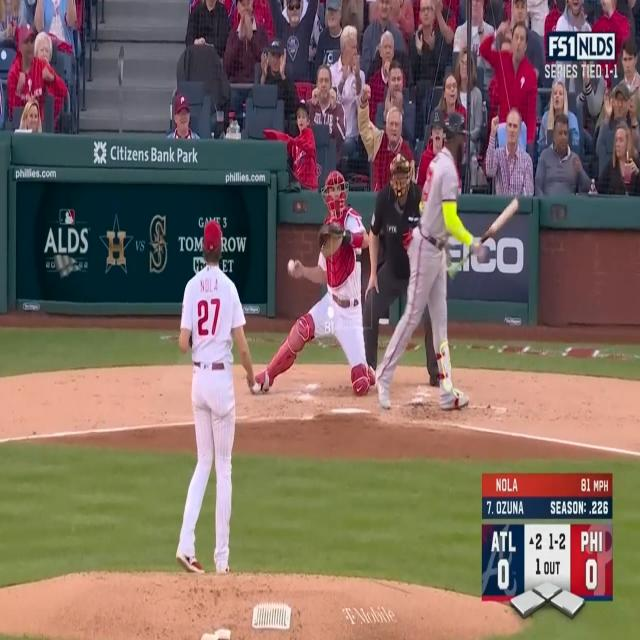baseball: (287, 258, 296, 273)
